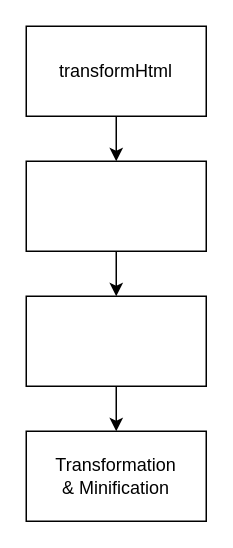
This 233x548 diagram has some shape labels left out. The shapes that lost their labels are listed below. From the top down, each one's box as (x1, y1, x2, y2) in pixels, then its label:
(25, 160, 206, 251): crawling
(25, 295, 206, 386): Bundling & Tree Shaking
